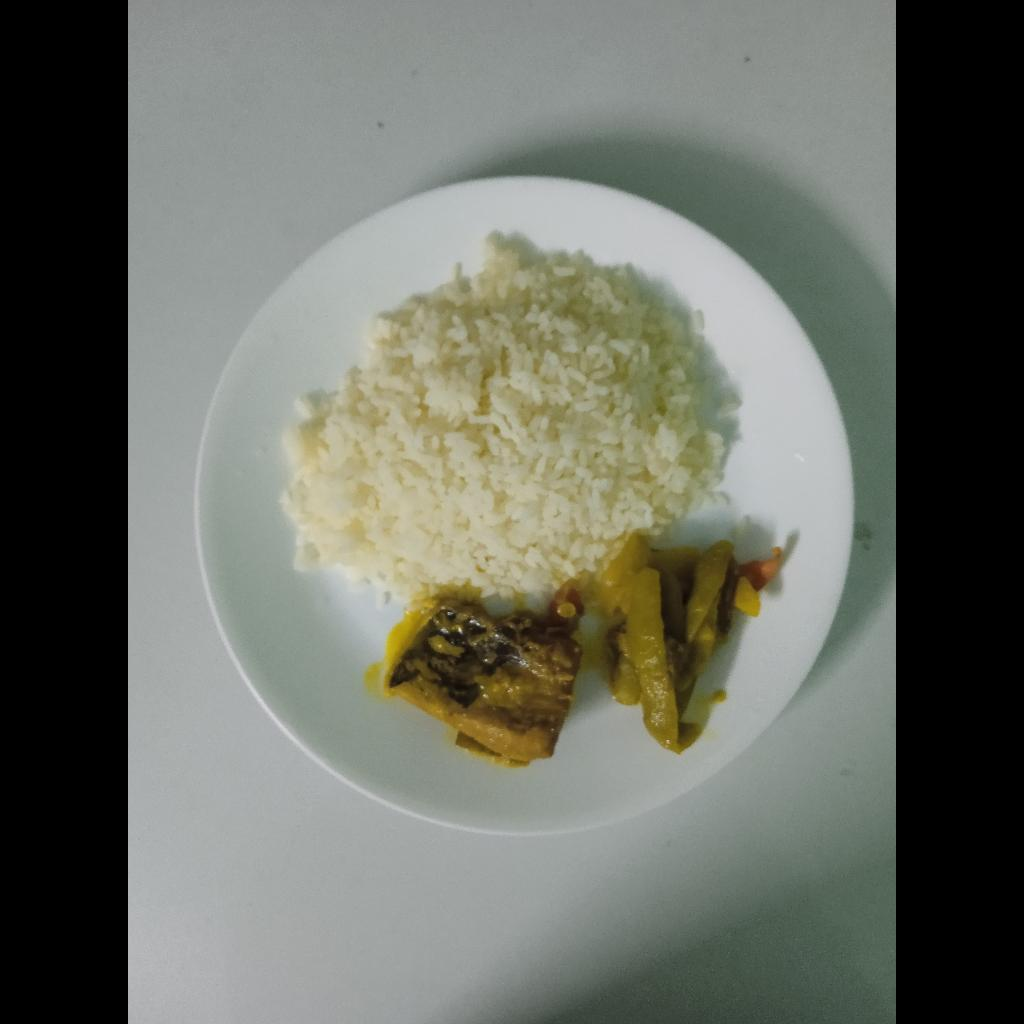fish: (382, 585, 586, 768)
potol: (601, 542, 787, 757)
rice: (277, 235, 741, 606)
